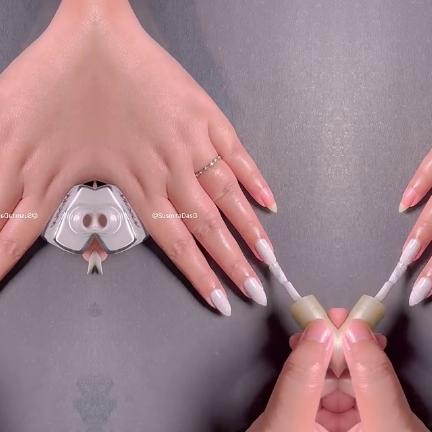Nail: (302, 320, 330, 343), (243, 278, 266, 306), (344, 320, 372, 343), (408, 278, 431, 306), (253, 239, 276, 266), (398, 239, 421, 266), (209, 289, 231, 317), (259, 188, 276, 213), (398, 188, 415, 213), (94, 248, 102, 275), (86, 248, 94, 275)
